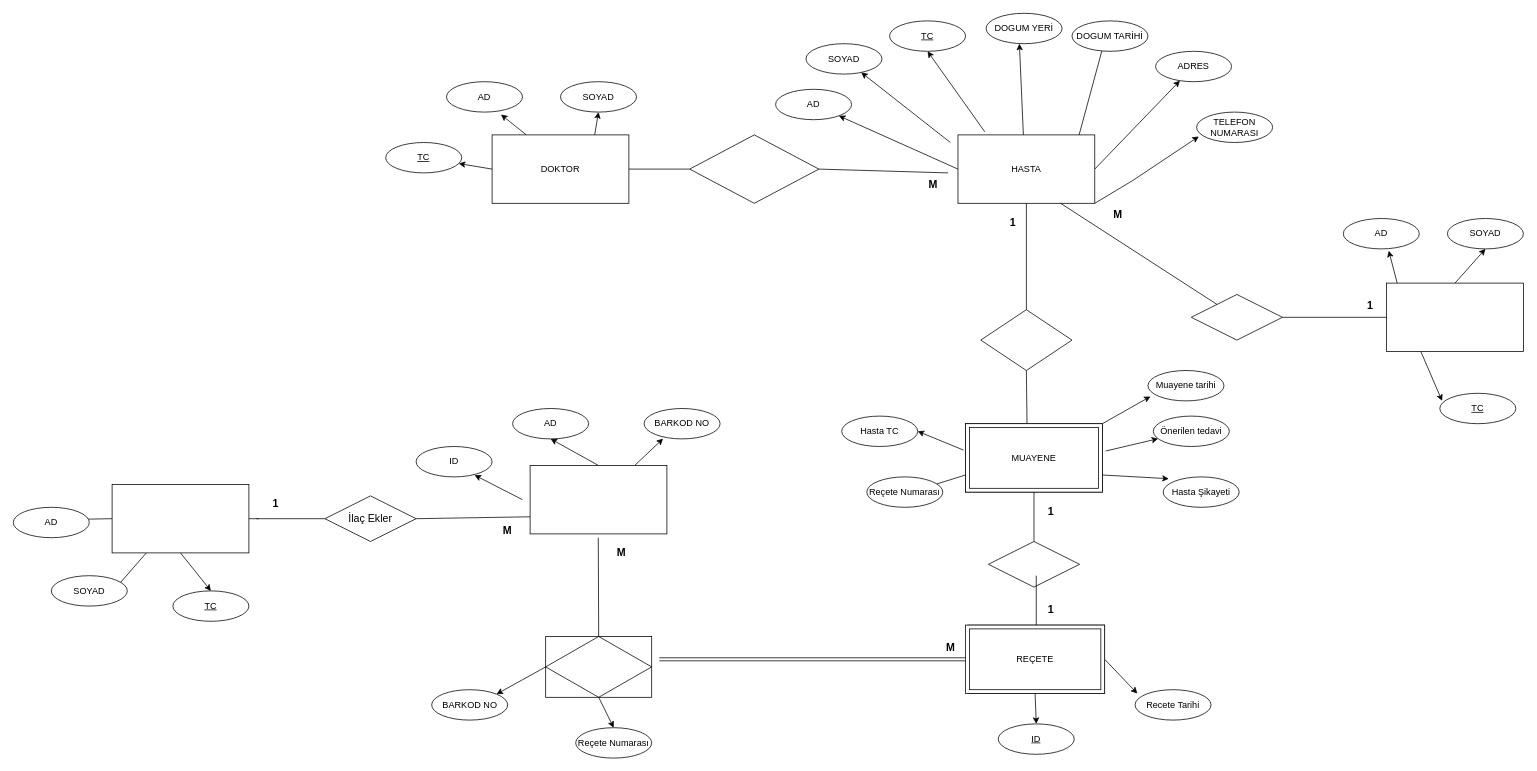
The diagram is 1537 pixels wide and 771 high, and some of its shapes have lost their labels. Each missing label, with the centre of its shape:
"ECZACI" goes at (x=180, y=518).
"İLAÇ" goes at (x=598, y=499).
"Kayıt Oluşturur" goes at (x=1236, y=317).
"Muayene Eder" goes at (x=754, y=168).
"Muayene Olur" goes at (x=1026, y=339).
"Recete_İlac" goes at (x=598, y=666).
"Reçete Oluşur" goes at (x=1034, y=564).
"SEKRETER" goes at (x=1454, y=317).
